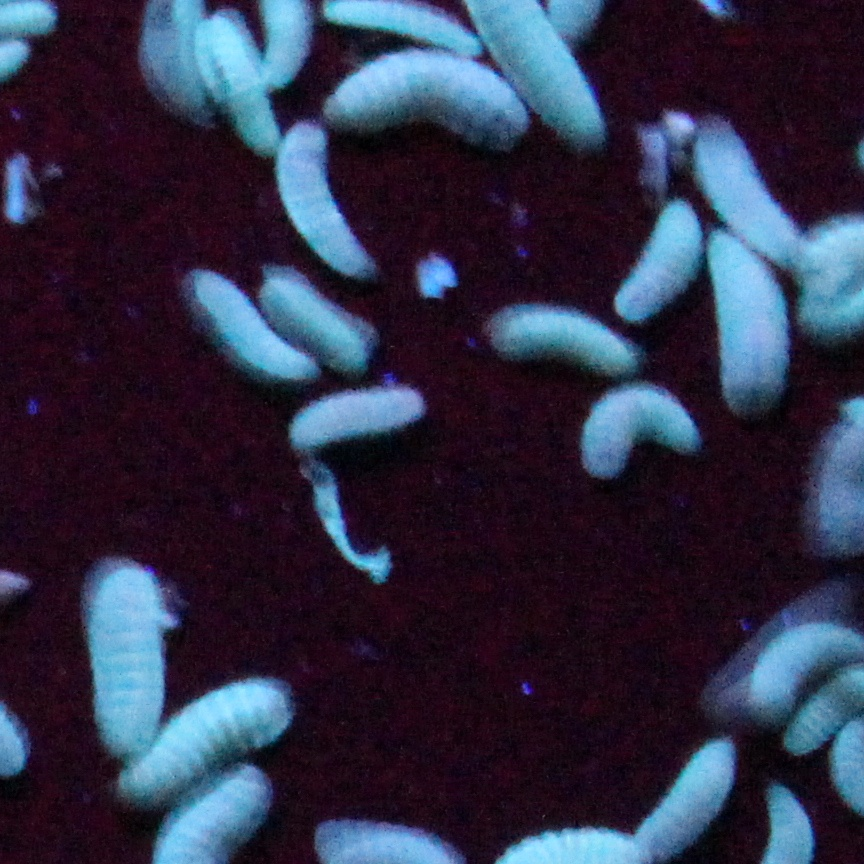larve: (126, 684, 286, 796), (86, 564, 174, 744), (686, 128, 814, 236), (278, 119, 363, 278), (198, 288, 326, 388), (487, 302, 642, 384), (578, 396, 722, 484), (710, 256, 798, 396), (258, 260, 362, 372), (646, 744, 742, 860), (738, 628, 858, 716), (214, 12, 282, 148), (294, 388, 418, 456), (626, 204, 686, 324)
